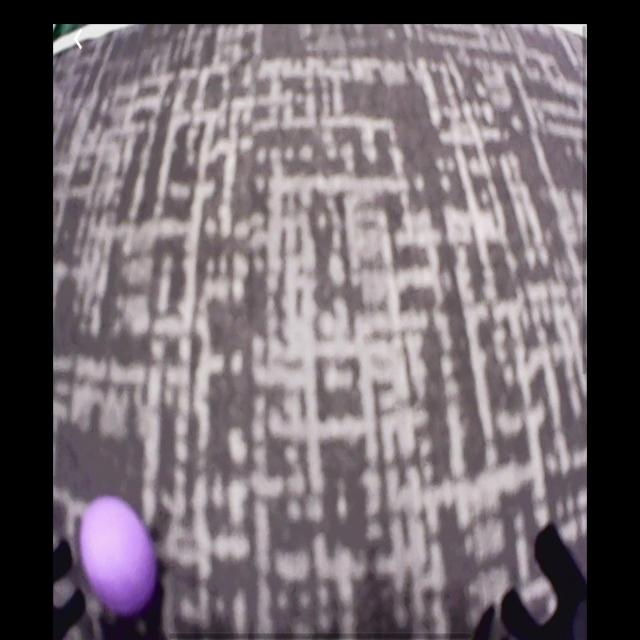ball: (79, 498, 158, 617)
